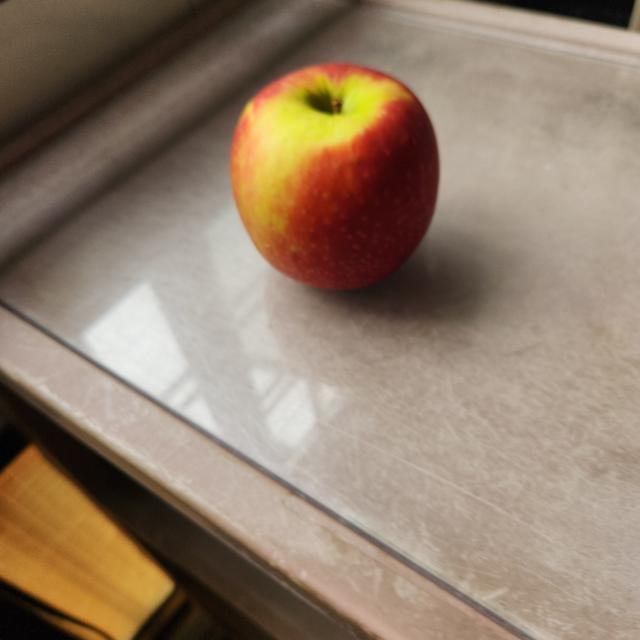apple: (224, 55, 446, 298)
